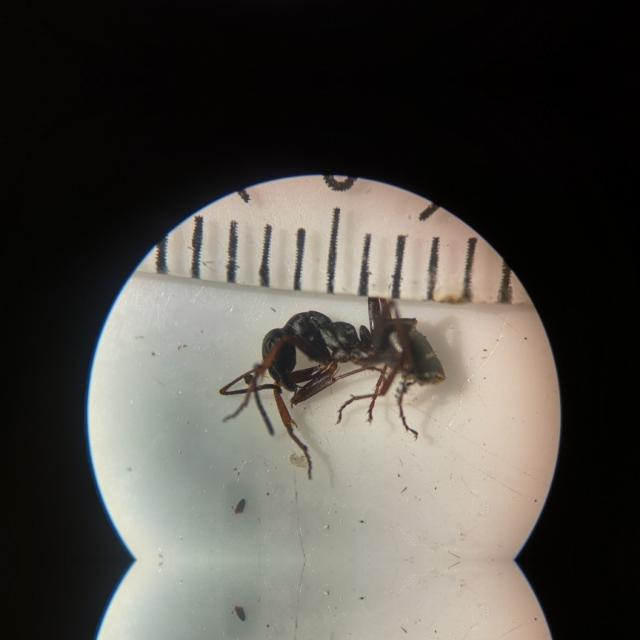Formica: (243, 275, 443, 437)
